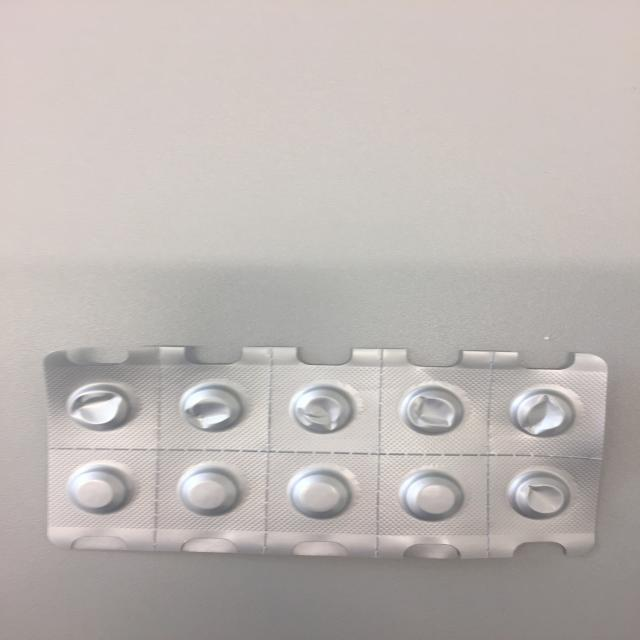Empty: (55, 378, 141, 433), (504, 384, 584, 442), (285, 378, 362, 438), (172, 382, 255, 437), (396, 382, 469, 441), (503, 468, 573, 524)
Pill: (56, 460, 143, 520), (170, 459, 250, 522), (394, 468, 470, 524), (285, 463, 353, 522)
